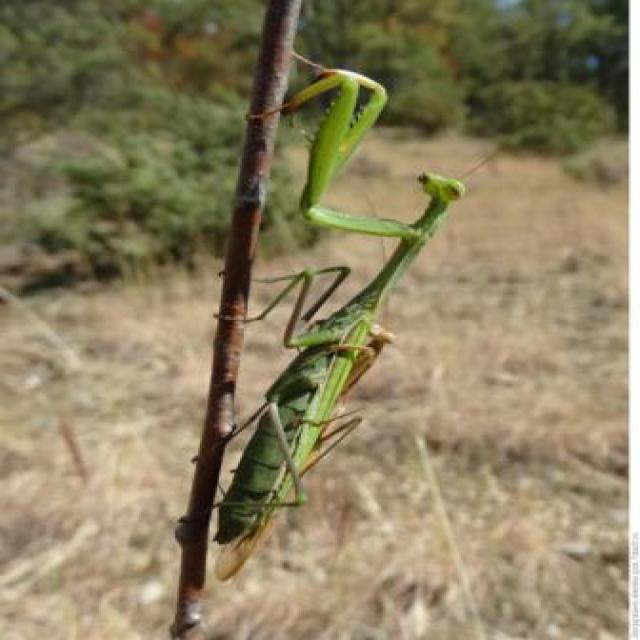antennae: (459, 138, 514, 177)
body: (217, 176, 461, 536)
insect: (193, 58, 510, 580)
legs: (245, 77, 410, 242), (294, 55, 418, 234), (236, 275, 339, 342), (254, 267, 358, 317)
mouthpart: (417, 171, 433, 191)
wings: (215, 333, 364, 576)
